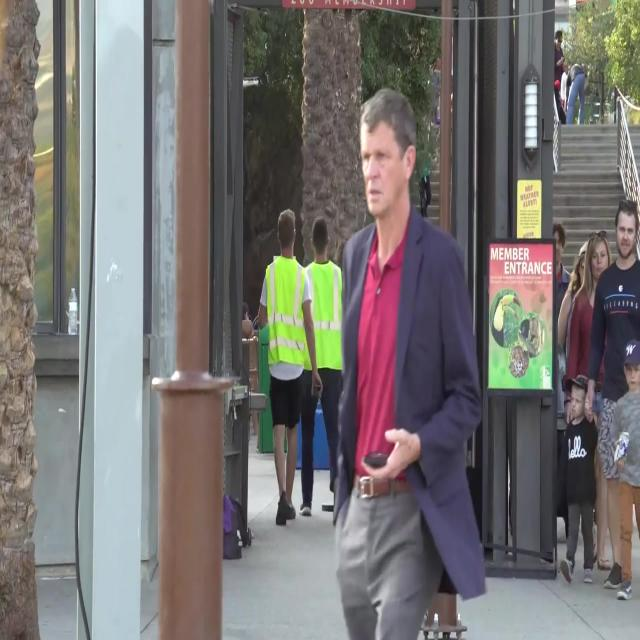Reflective-Jacket: (257, 252, 311, 383), (300, 255, 350, 383)
